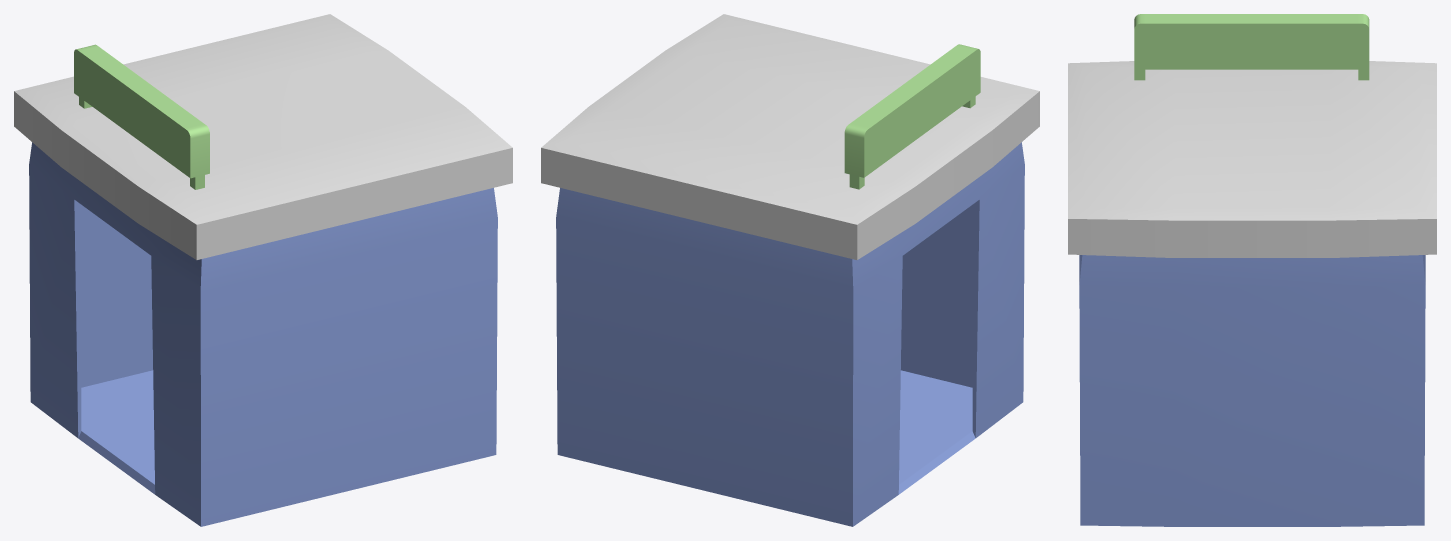
The model's file is shop.glb.
3 views of the same model, side by side, from view 1: azimuth 30°, elevation 25°; view 2: azimuth 150°, elevation 25°; view 3: azimuth 270°, elevation 25° (orthographic).
Parts seen in each view (by area): view 1: Cube, Cube.001; view 2: Cube, Cube.001; view 3: Cube, Cube.001.
Boxes of the visible parts, <box> form: Cube: <box>14,14,512,526</box>; Cube.001: <box>74,44,209,189</box>; Cube: <box>541,14,1039,526</box>; Cube.001: <box>844,44,980,189</box>; Cube: <box>1068,61,1436,526</box>; Cube.001: <box>1134,14,1369,80</box>.
Size of the model in its own units: 2.28 by 2.48 by 2.21.
